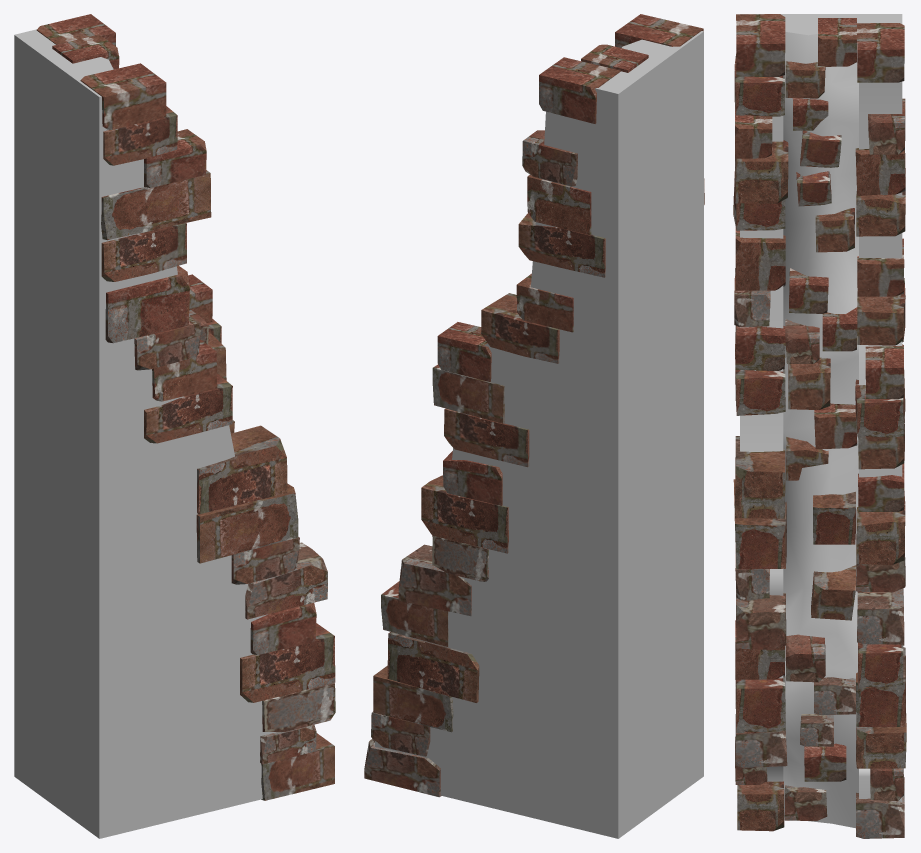
The model's file is SM_Wall_Thick_Ruined_09.fbx.
The picture shows the model from 3 angles, left to right: view 1: azimuth 30°, elevation 25°; view 2: azimuth 150°, elevation 25°; view 3: azimuth 270°, elevation 25°; orthographic projection. The views are drawn at different scales.
Visible parts, largest first — view 1: SM_Wall_Thick_Ruined_09_LOD0; view 2: SM_Wall_Thick_Ruined_09_LOD0; view 3: SM_Wall_Thick_Ruined_09_LOD0.
Part boxes in pixels (<box>): SM_Wall_Thick_Ruined_09_LOD0: <box>14,14,335,838</box>; SM_Wall_Thick_Ruined_09_LOD0: <box>364,14,704,838</box>; SM_Wall_Thick_Ruined_09_LOD0: <box>733,14,906,838</box>.
Size of what is drawn, in the model's own units: 213 by 605 by 134.
